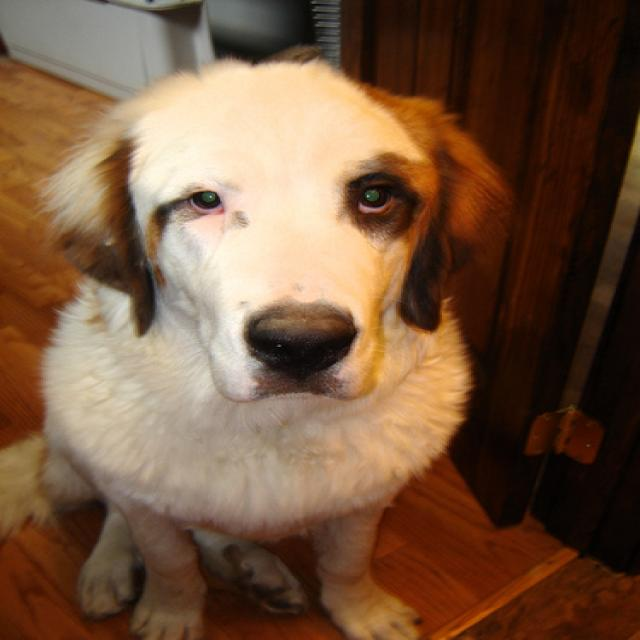dog-saint_bernard: (32, 55, 507, 637)
